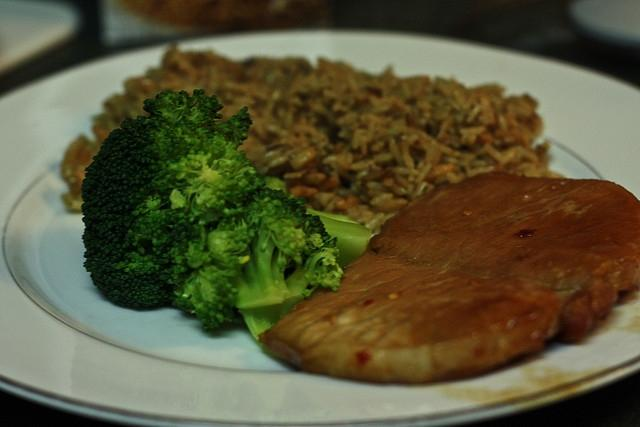broccoli: (80, 90, 370, 312), (172, 186, 344, 346)
